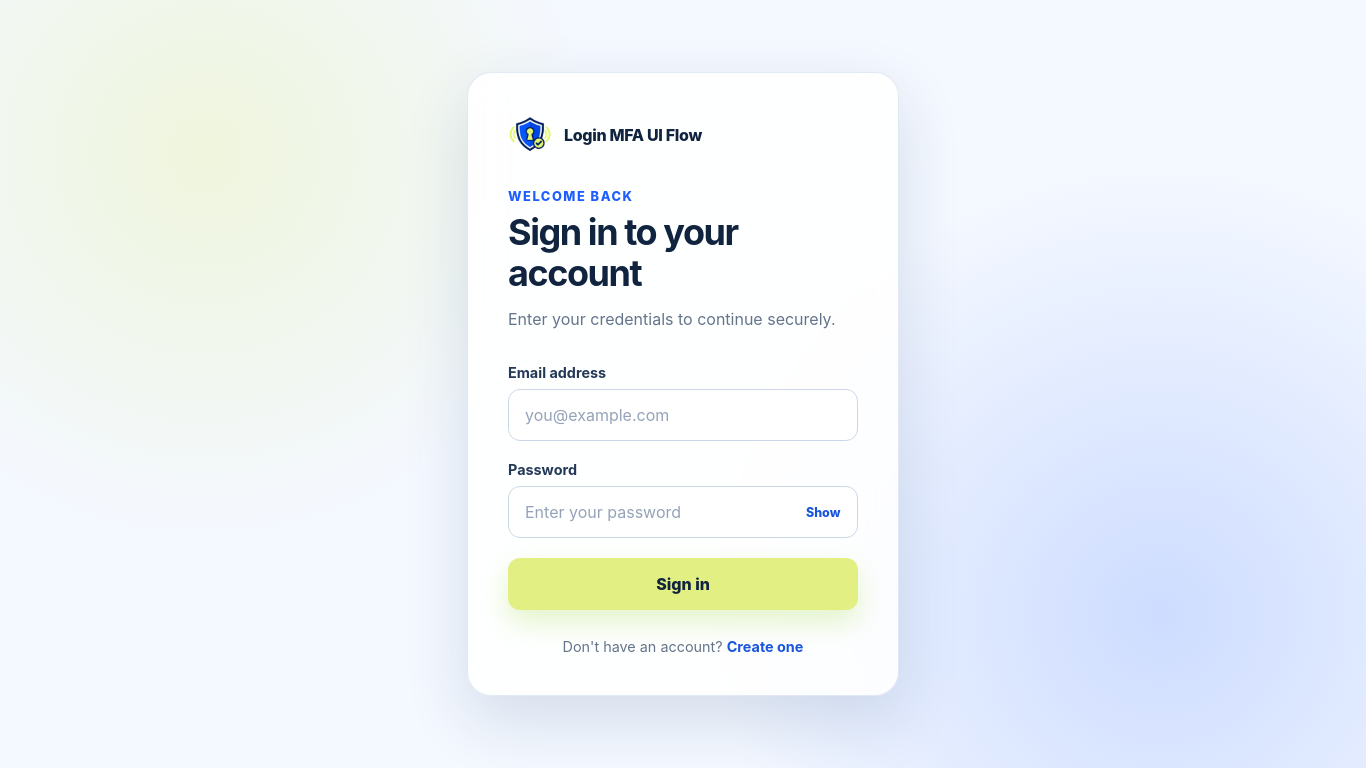
Test: application authentication flow › shows each email and password issue that needs to be fixed
This screenshot has width=1366, height=768.
Click the button "Sign in" at (683, 584), box [508,558,858,610]
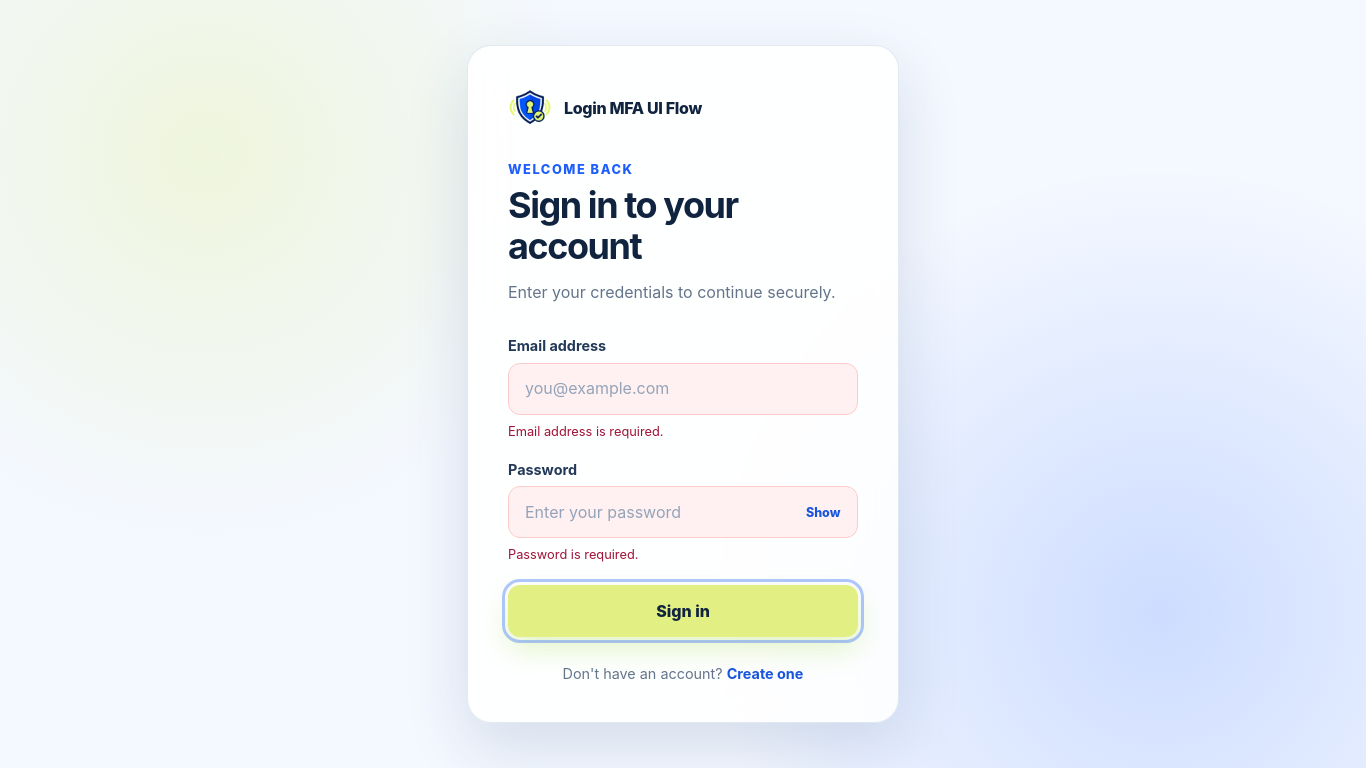
Expected: the text "Email address is required." is shown, [508,424,664,439]
Expected: the text "Password is required." is shown, [508,547,638,562]
Type "invalid-email" into the field labelled "Email address" at (683, 389), box [508,363,858,415]
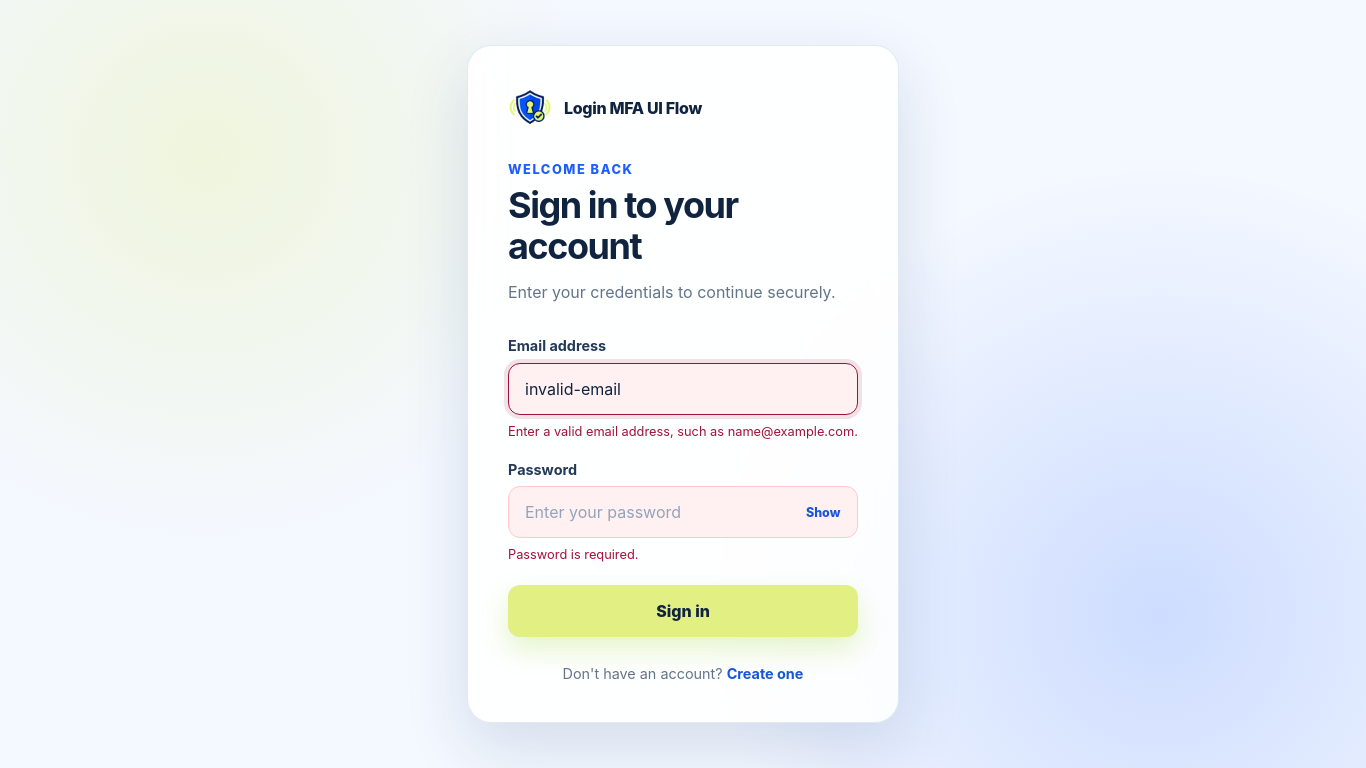
Type "short" into the password field labelled "Password" at (683, 512), box [508,486,858,538]
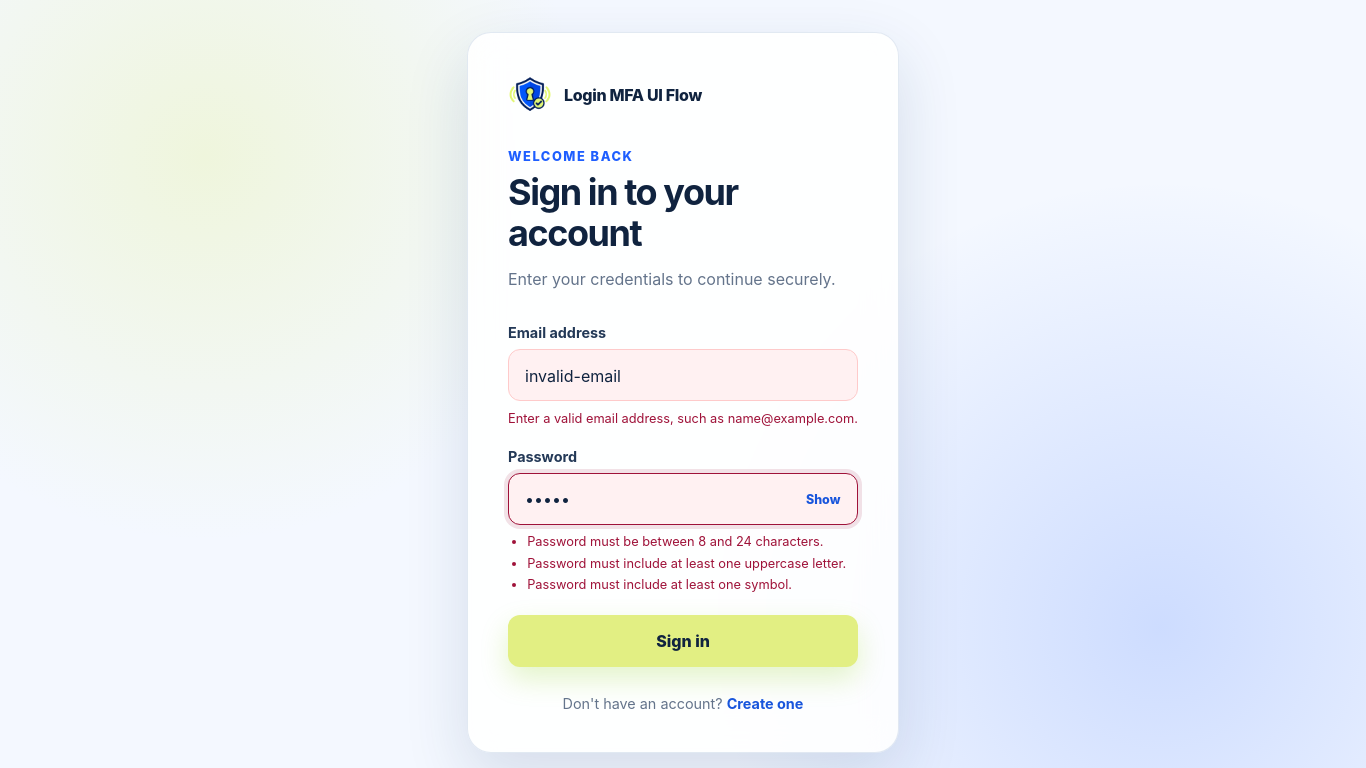
Expected: the text "Enter a valid email address, such as name@example.com." is shown, [508,409,858,428]
Expected: the list item "Password must be between 8 and 24 characters." is shown, [527,533,858,551]
Expected: the list item "Password must include at least one uppercase letter." is shown, [527,555,858,573]
